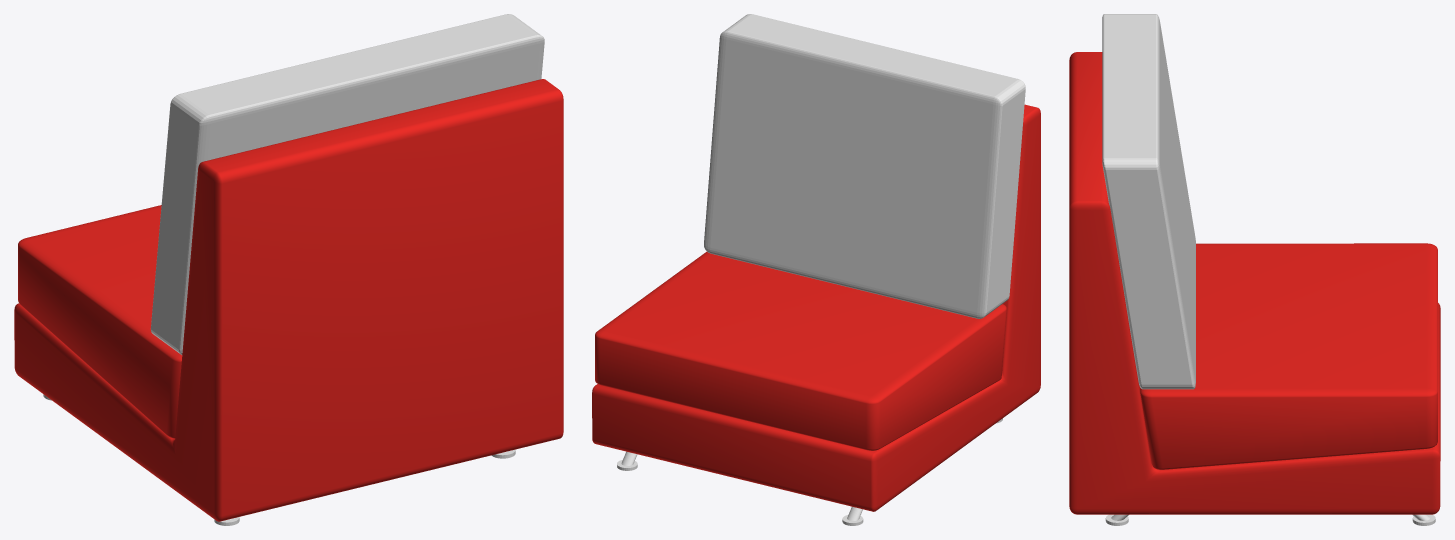
File: kursi merah.fbx
The picture shows the model from 3 angles, left to right: view 1: azimuth 30°, elevation 25°; view 2: azimuth 150°, elevation 25°; view 3: azimuth 270°, elevation 25°; orthographic projection. The views are drawn at different scales.
Visible parts, largest first — view 1: Plane, Plane.002, Plane.001; view 2: Plane.002, Plane.001, Plane, Cylinder.002; view 3: Plane.001, Plane, Plane.002, Cylinder.002.
Boxes of the visible parts, x1,y1,x2,y2 form: Plane: [14, 79, 563, 521]; Plane.002: [150, 14, 544, 354]; Plane.001: [18, 205, 182, 438]; Plane.002: [704, 14, 1025, 318]; Plane.001: [595, 251, 1006, 450]; Plane: [592, 104, 1040, 511]; Cylinder.002: [617, 418, 1002, 525]; Plane.001: [1140, 243, 1437, 469]; Plane: [1069, 52, 1440, 514]; Plane.002: [1102, 14, 1195, 389]; Cylinder.002: [1105, 514, 1435, 525].
Bounding box in the file's own units: 237 × 272 × 244.
